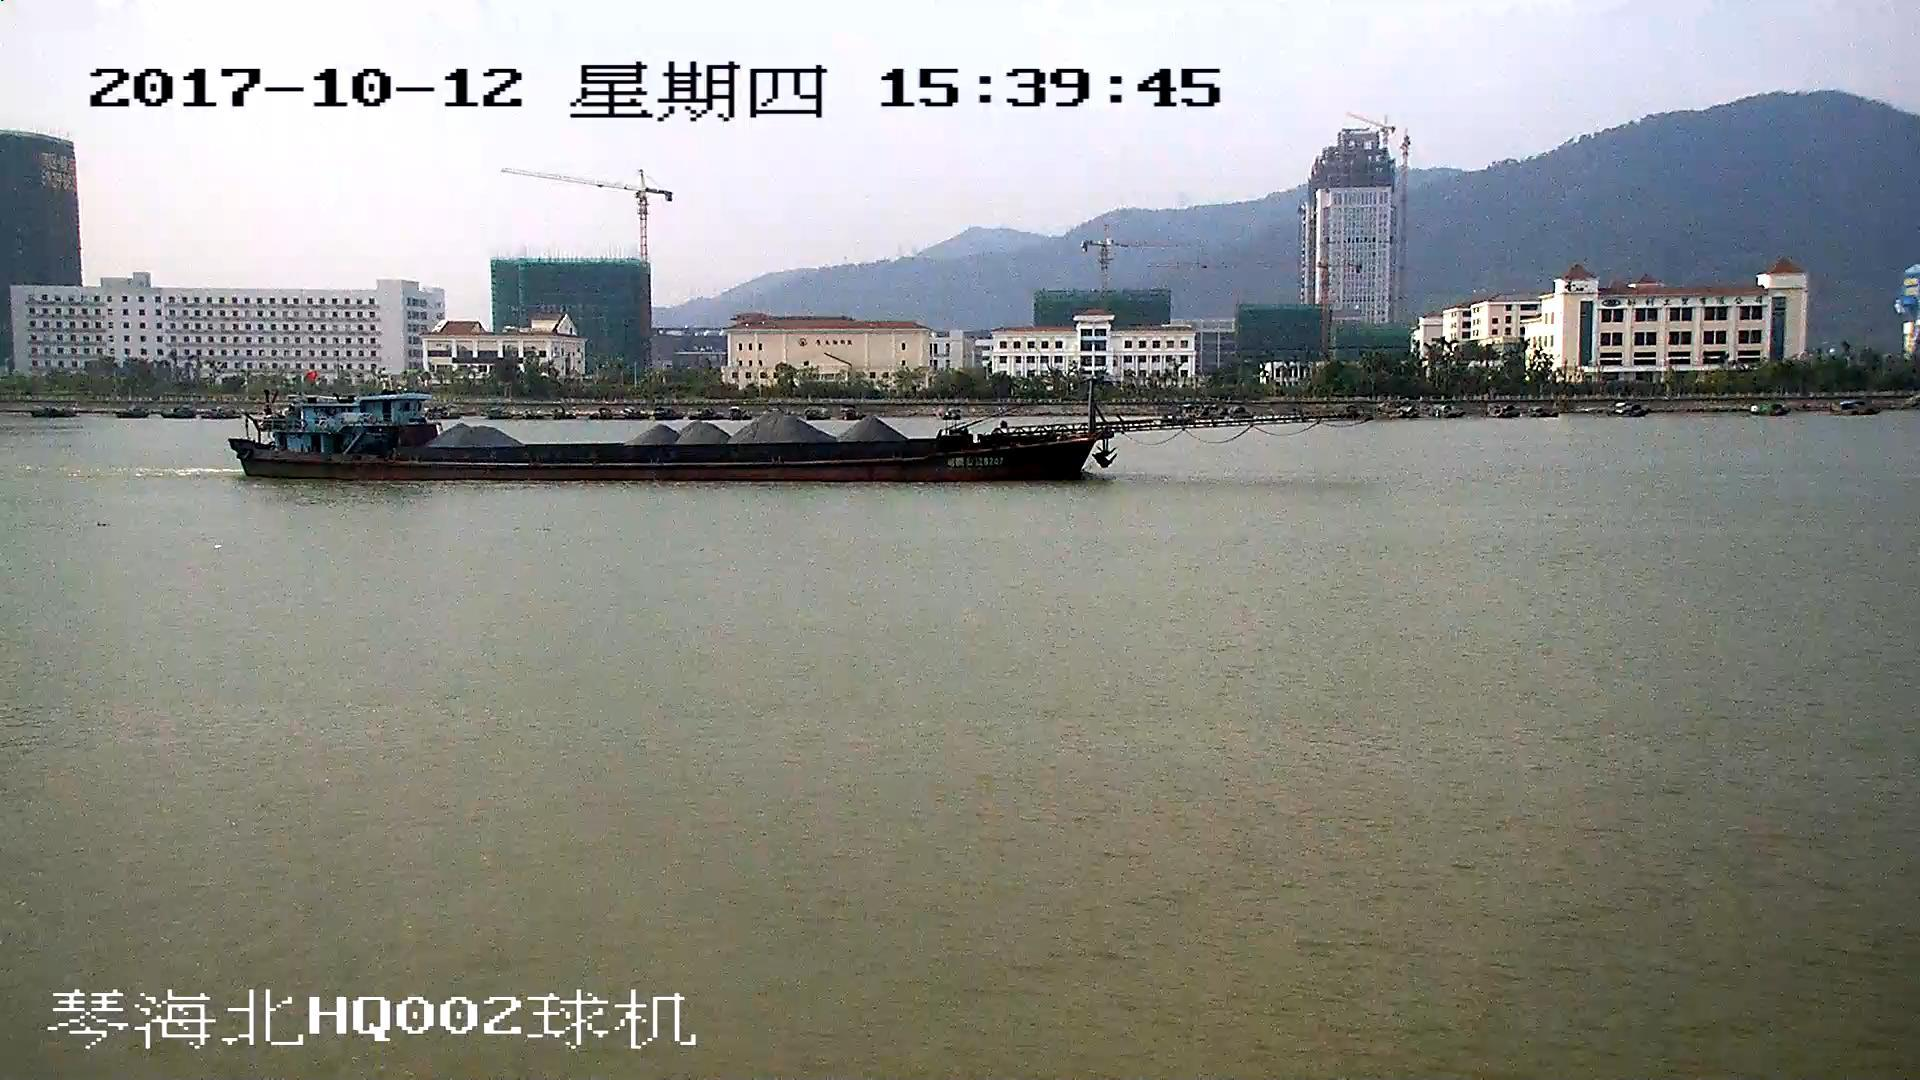Ship: (236, 382, 1309, 487)
